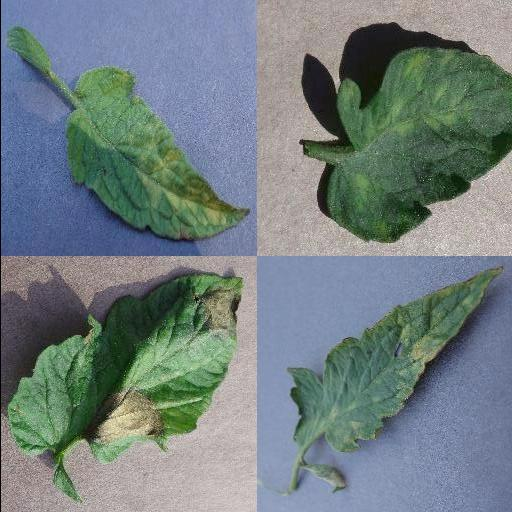Late Blight: (6, 272, 244, 464)
Leaf Mold: (287, 266, 505, 454), (329, 47, 512, 243), (65, 69, 251, 241)
